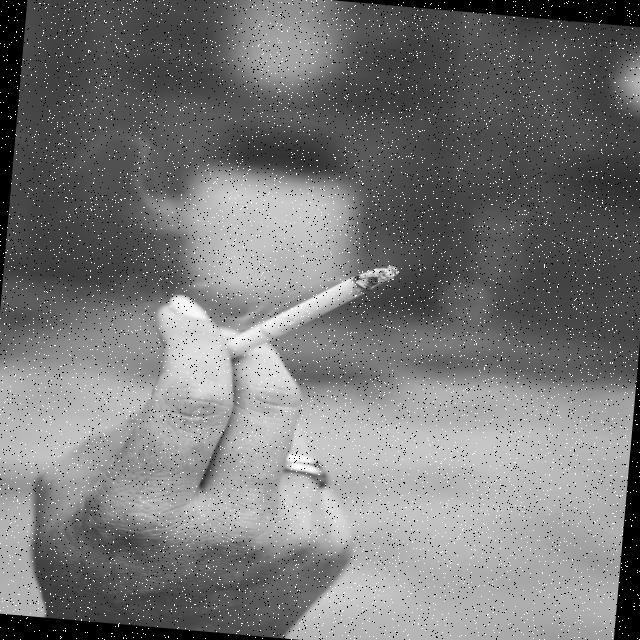cigarette: (227, 232, 413, 366)
